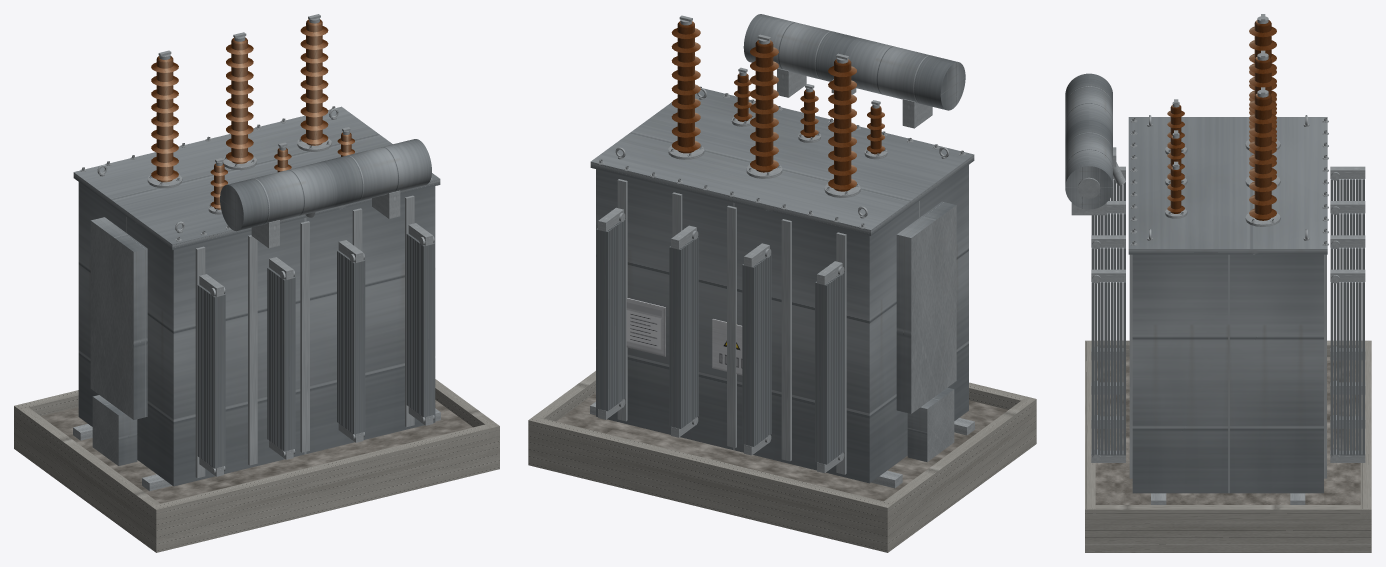
File: tx_substation.obj
3 renders of one model, left to right at view 1: azimuth 30°, elevation 25°; view 2: azimuth 150°, elevation 25°; view 3: azimuth 270°, elevation 25°, orthographic. The views are drawn at different scales.
Parts seen in each view (by area): view 1: tank, bund, radiator, cover, tapchanger, conservator, bushing_1, bushing_3, bushing_2, rails; view 2: tank, bund, cover, radiator, tapchanger, conservator, nameplate, bushing_2, bushing_3, bushing_1, rails, bushing_4 (+2 smaller); view 3: tank, bund, cover, radiator, conservator, bushing_3, bushing_2, bushing_1, bushing_6, bushing_4, bushing_5, flange_3 (+1 smaller).
Boxes of the visible parts, box(x1,y1,x2,y2) form: tank: box(78, 182, 435, 486); bund: box(14, 379, 499, 552); radiator: box(197, 223, 434, 476); cover: box(73, 106, 440, 250); tapchanger: box(90, 217, 147, 465); conservator: box(220, 139, 431, 248); bushing_1: box(151, 56, 178, 182); bushing_3: box(300, 19, 328, 145); bushing_2: box(226, 37, 253, 163); rails: box(73, 408, 440, 491); tank: box(596, 165, 968, 483); bund: box(528, 371, 1036, 552); cover: box(590, 86, 974, 235); radiator: box(596, 207, 844, 473); tapchanger: box(896, 201, 956, 461); conservator: box(743, 14, 965, 128); nameplate: box(626, 298, 742, 375); bushing_2: box(750, 40, 778, 172); bushing_3: box(671, 21, 700, 153); bushing_1: box(828, 59, 856, 191); rails: box(590, 402, 974, 488); bushing_4: box(867, 106, 884, 154); tank: box(1129, 254, 1326, 493); bund: box(1085, 340, 1371, 552); cover: box(1128, 115, 1328, 254); radiator: box(1091, 166, 1365, 462); conservator: box(1065, 73, 1112, 215); bushing_3: box(1249, 93, 1276, 220); bushing_2: box(1249, 57, 1276, 180); bushing_1: box(1249, 20, 1276, 142); bushing_6: box(1167, 167, 1184, 213); bushing_4: box(1167, 105, 1184, 148); bushing_5: box(1167, 136, 1184, 180); flange_3: box(1245, 87, 1280, 226).
Bounding box in the file's own units: 1.84 × 2.11 × 1.41.
